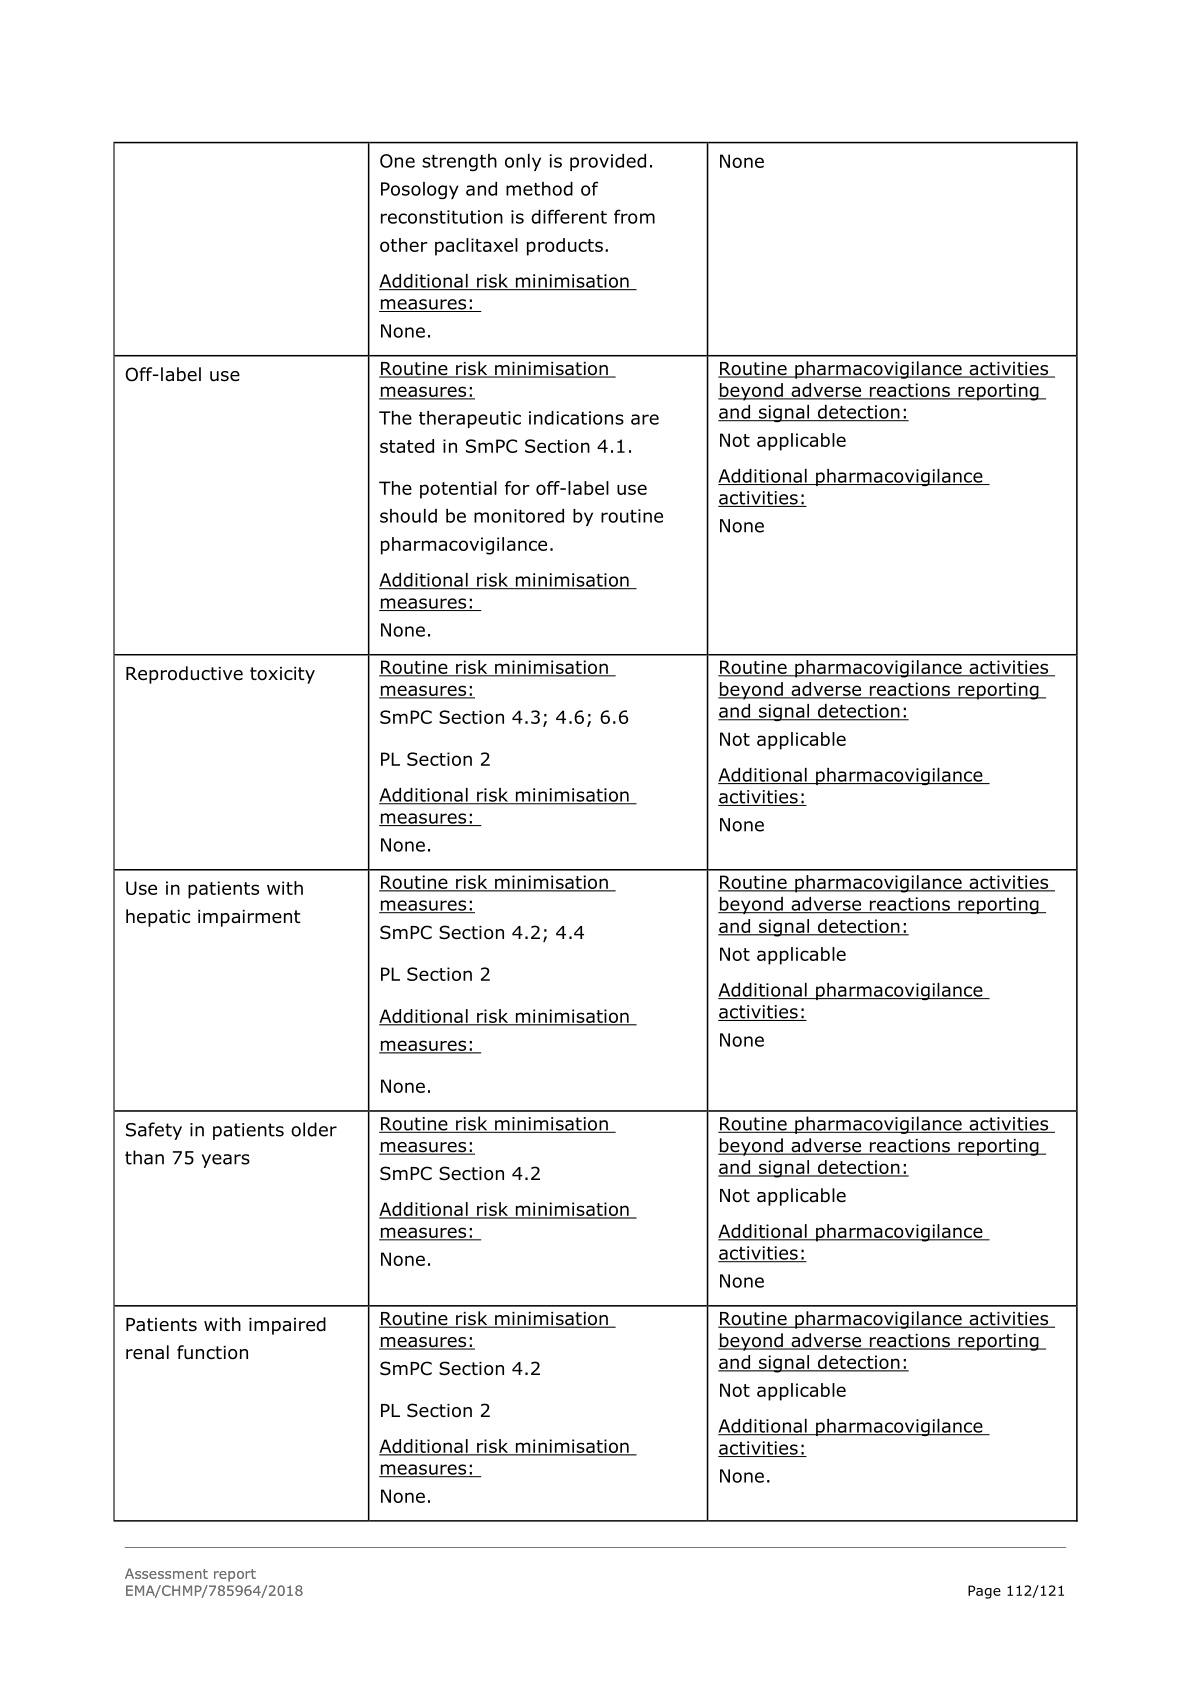full_lined: (111, 140, 1078, 1523)
